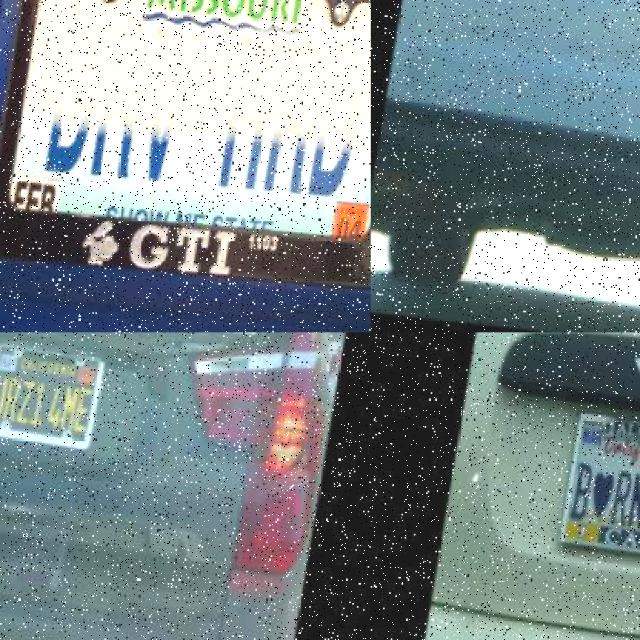licenseplate: (17, 0, 371, 229), (554, 404, 640, 576), (0, 345, 102, 457), (543, 0, 640, 66)
